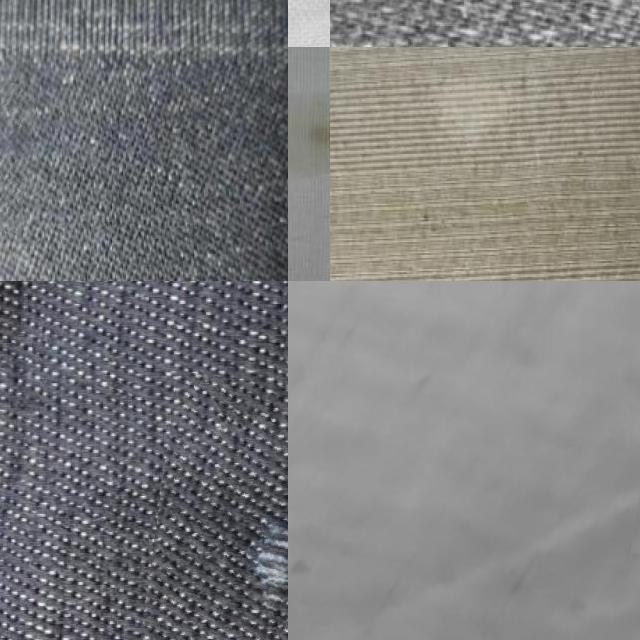Thread_other: (384, 46, 541, 188), (288, 63, 330, 234)
stains: (146, 379, 288, 640), (0, 74, 34, 228)
